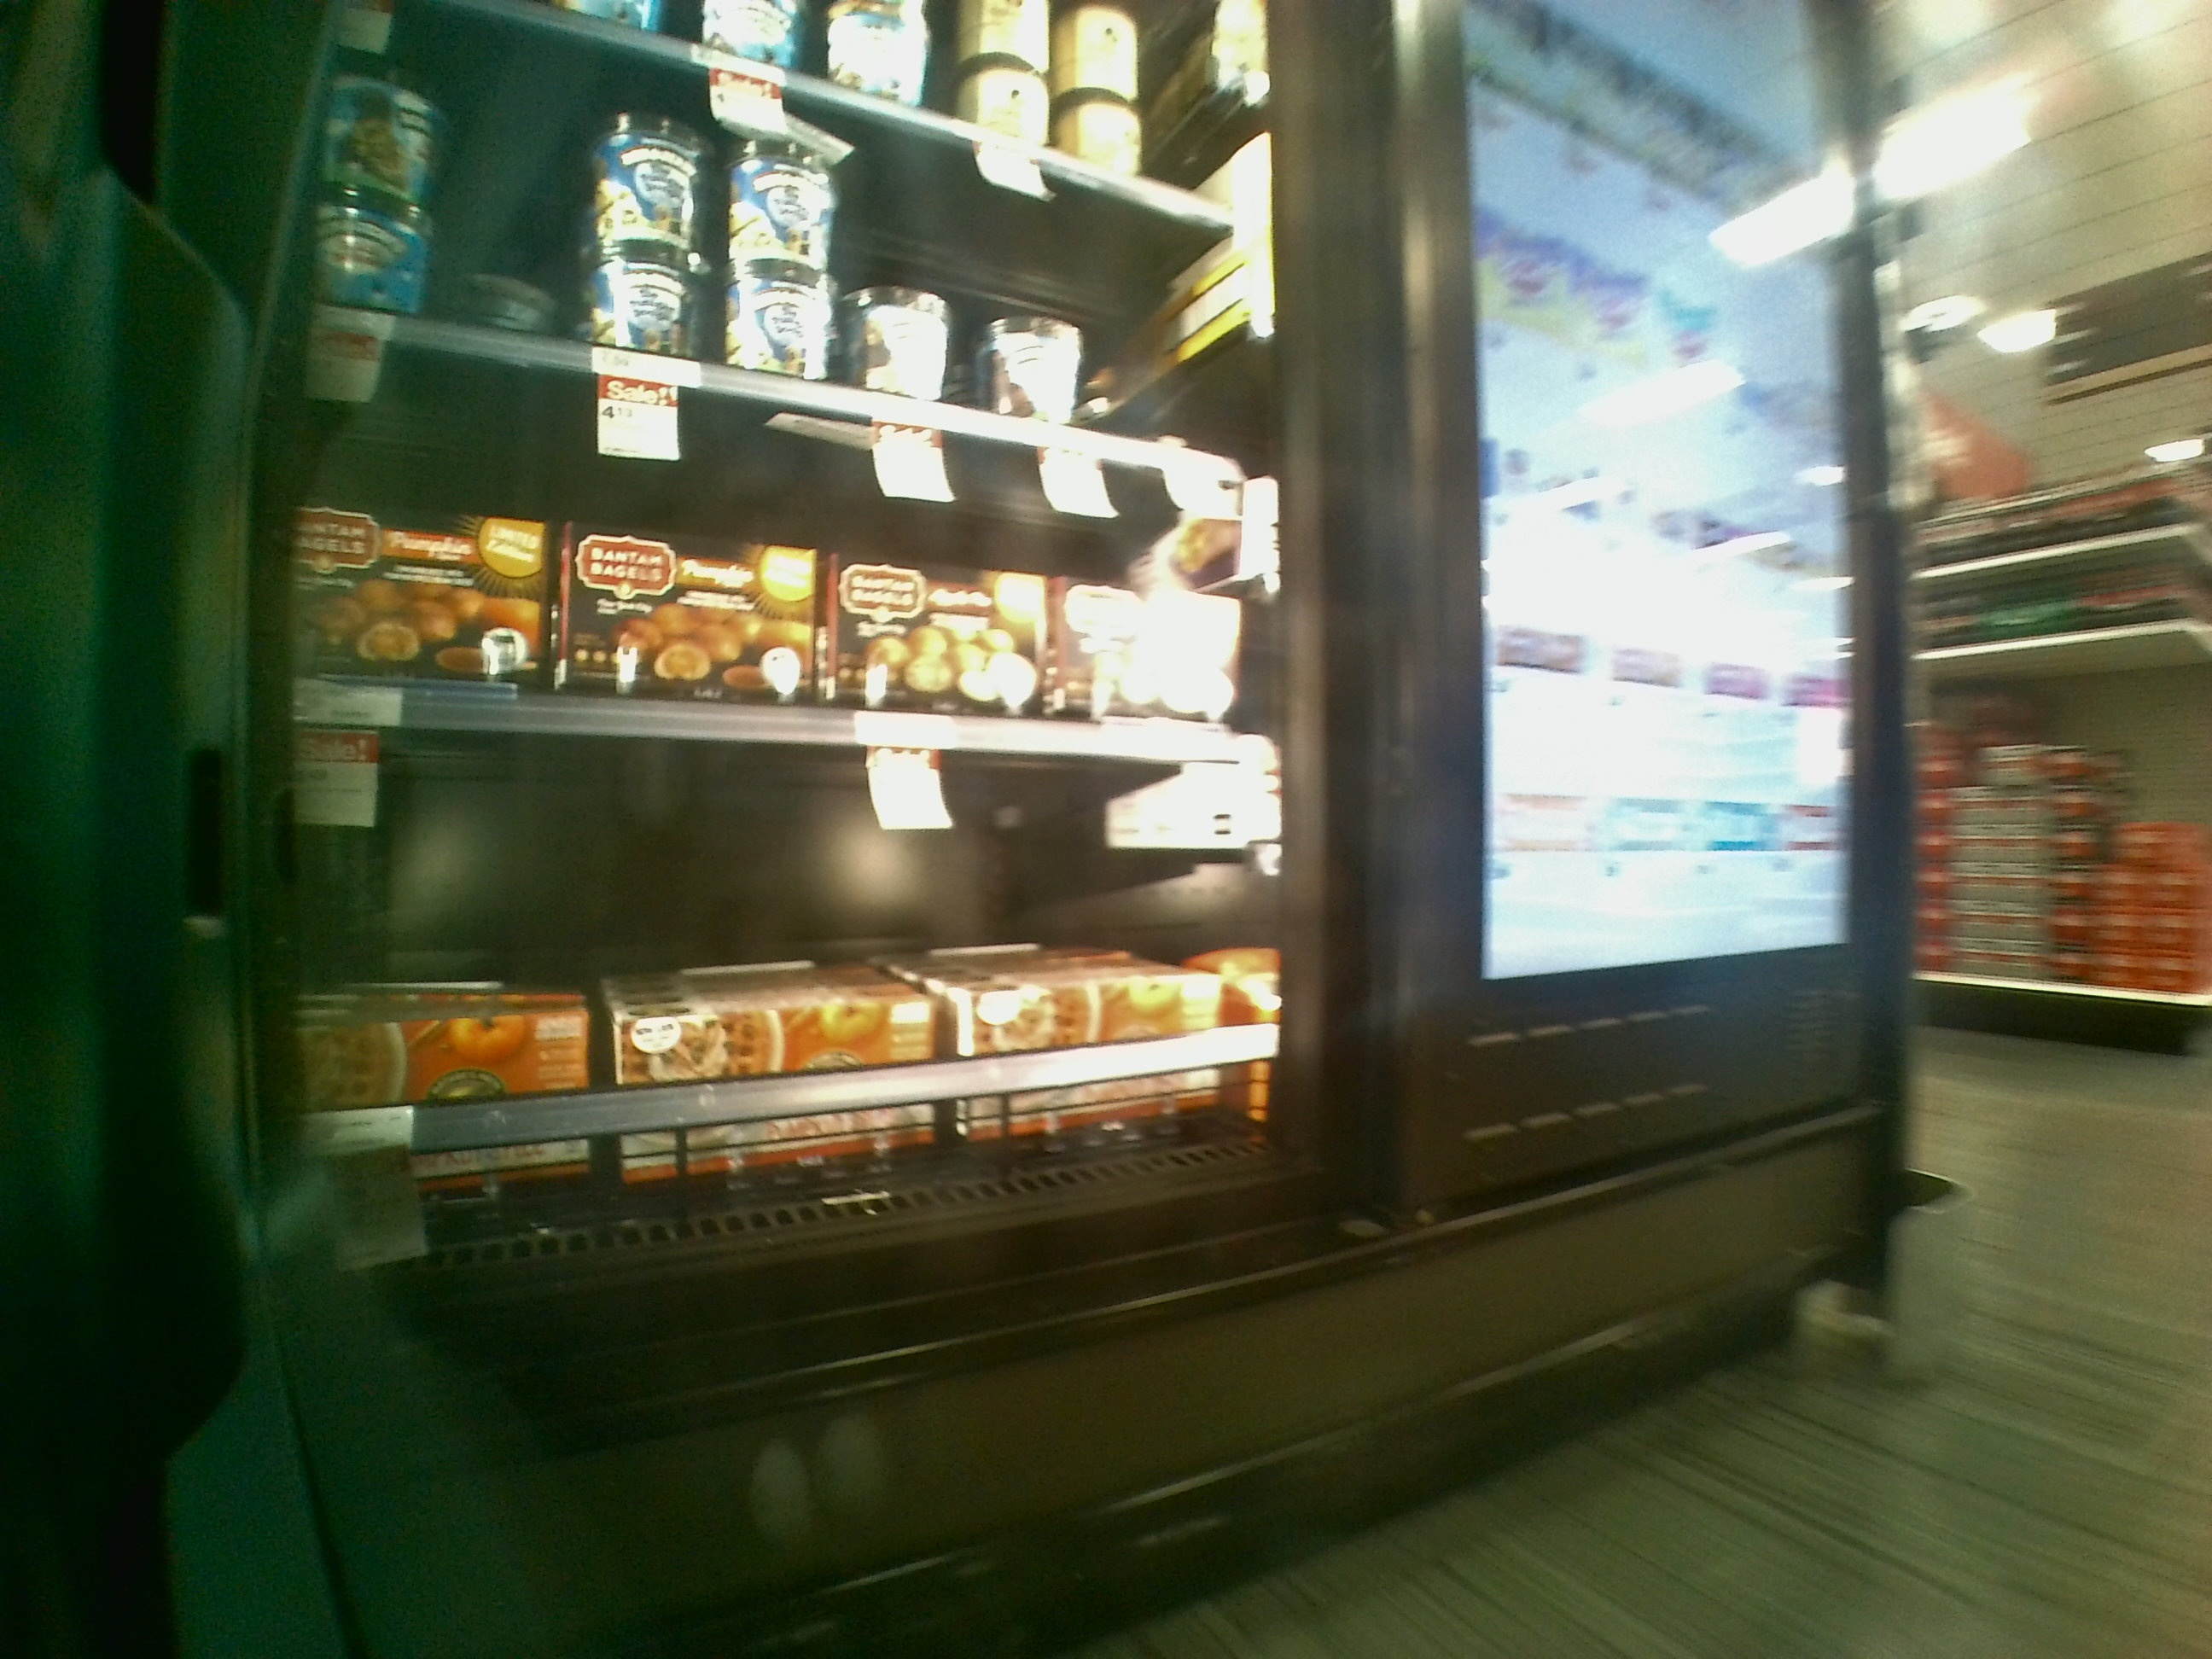shelf: (249, 706, 1305, 1236), (289, 314, 1294, 774)
